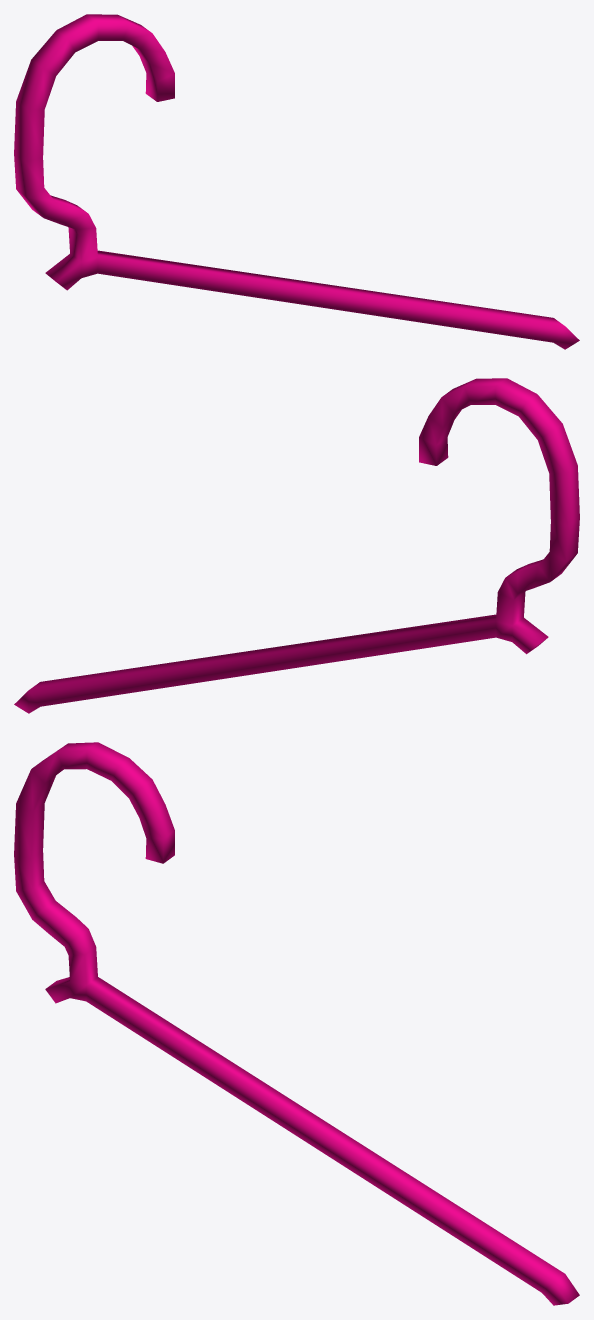
Rendered from SeverelyBrokenHanger.fbx.
3 renders of one model, top to bottom at view 1: azimuth 30°, elevation 25°; view 2: azimuth 150°, elevation 25°; view 3: azimuth 330°, elevation 25°, orthographic.
Parts seen in each view (by area): view 1: SeverelyBrokenHanger; view 2: SeverelyBrokenHanger; view 3: SeverelyBrokenHanger.
Boxes of the visible parts, bbox=[...] form: SeverelyBrokenHanger: bbox=[14, 14, 579, 349]; SeverelyBrokenHanger: bbox=[14, 378, 579, 713]; SeverelyBrokenHanger: bbox=[14, 742, 579, 1305].
Size of the model in its own units: 253 by 192 by 9.08.
